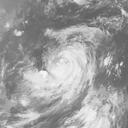cyclone: (47, 48, 80, 79)
